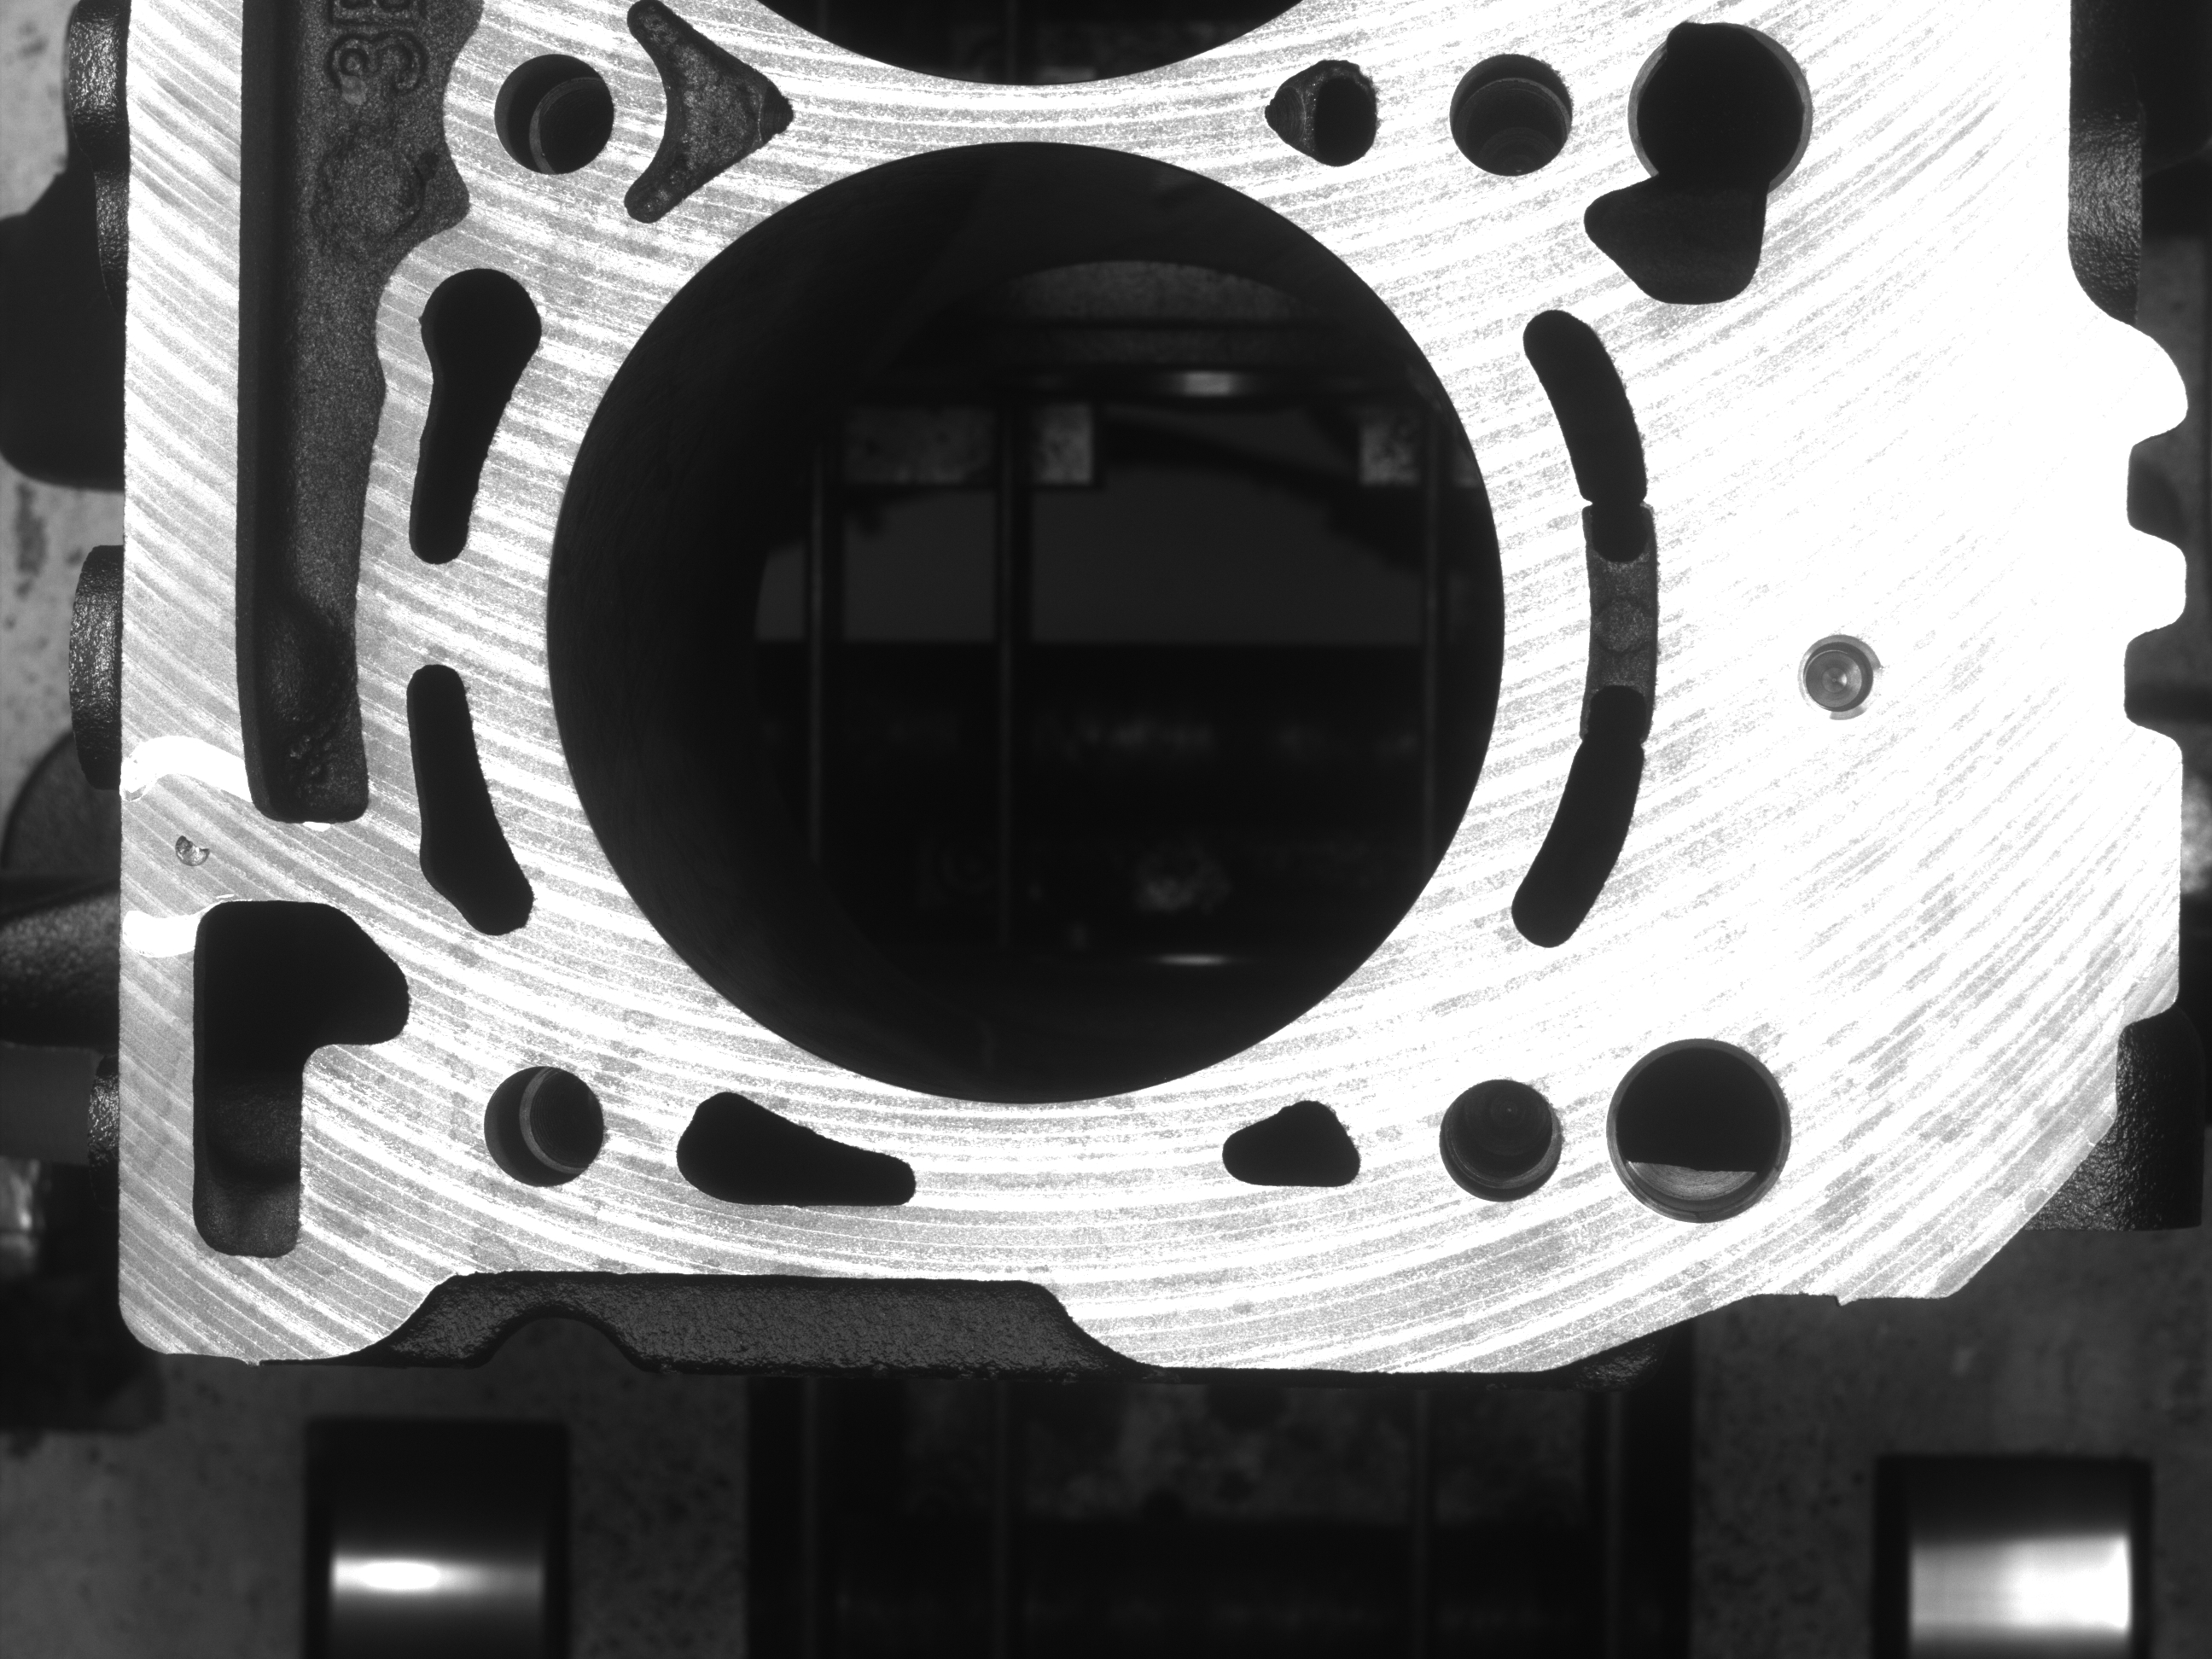crackle: (158, 824, 214, 884)
